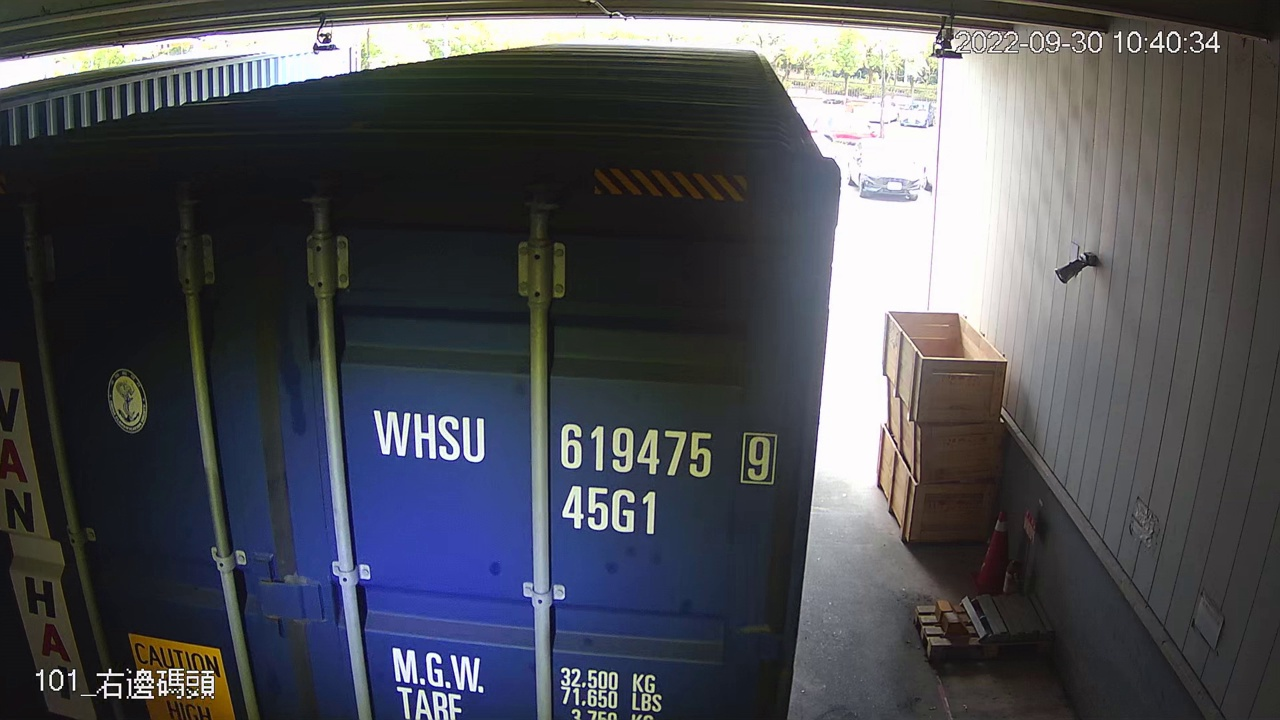container: (362, 399, 783, 537)
